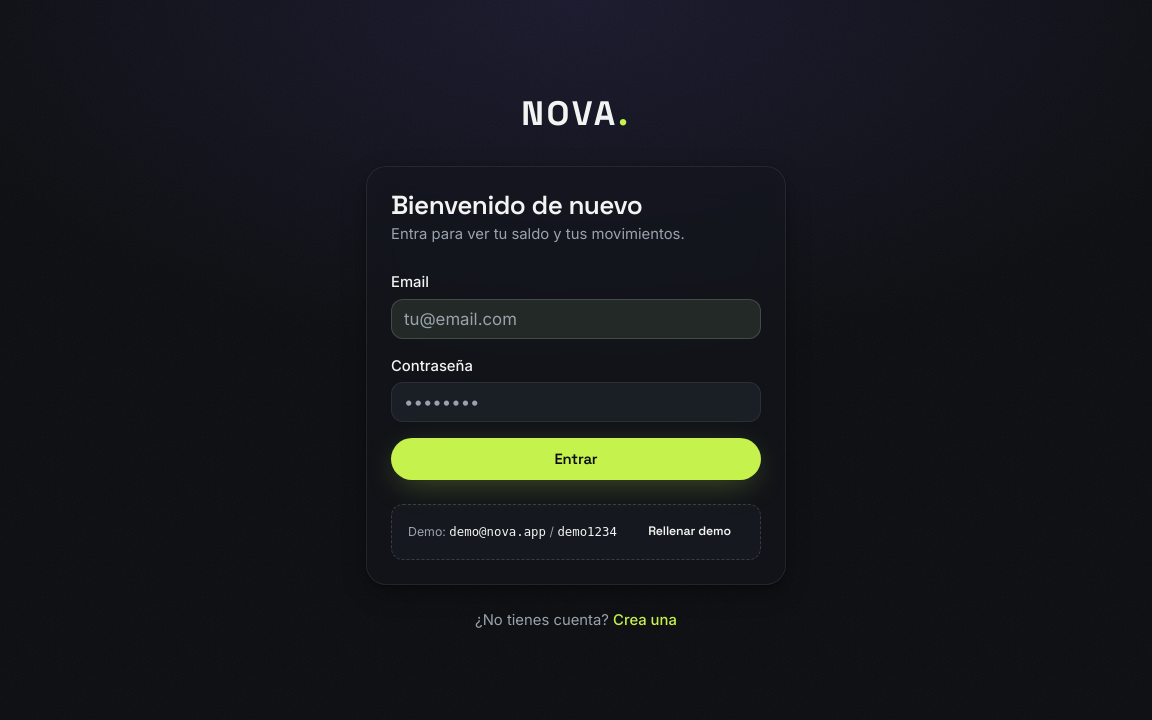
Test: LoginPage › muestra el error del servidor cuando las credenciales son incorrectas
Type "nadie@nova.app" into the field labelled "Email" at coordinates (576, 319), box [404, 300, 748, 338]
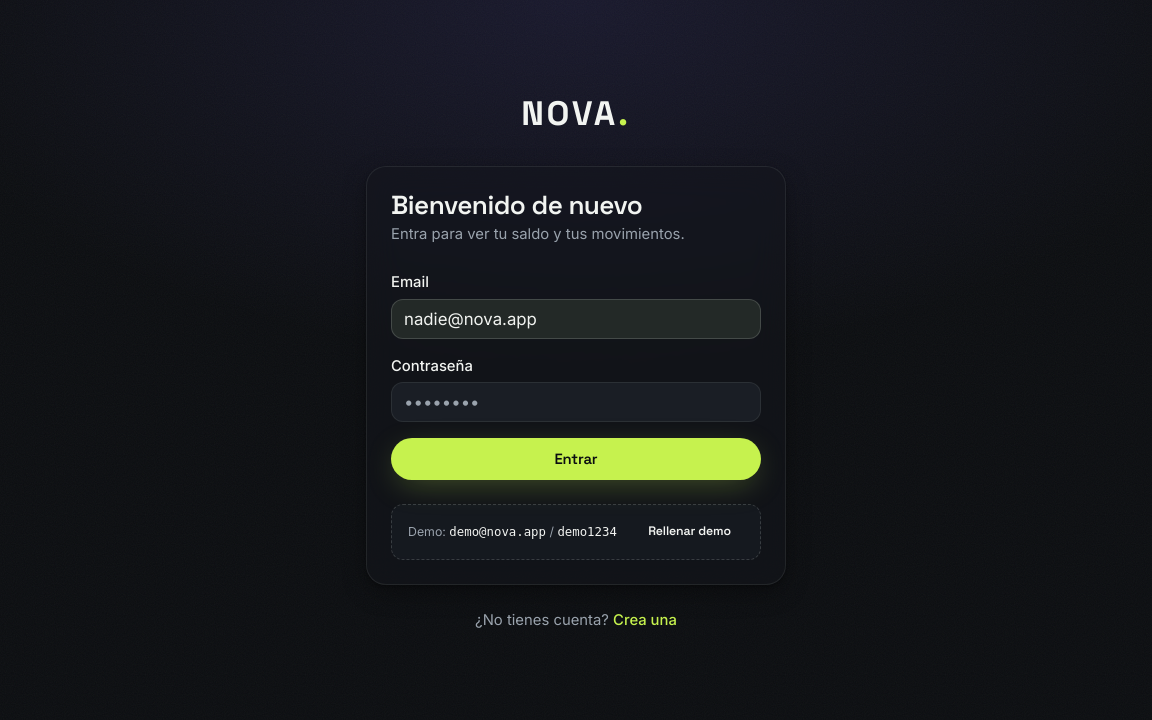
Type "clave123" into the password field labelled "Contraseña" at coordinates (576, 402), box [404, 384, 748, 422]
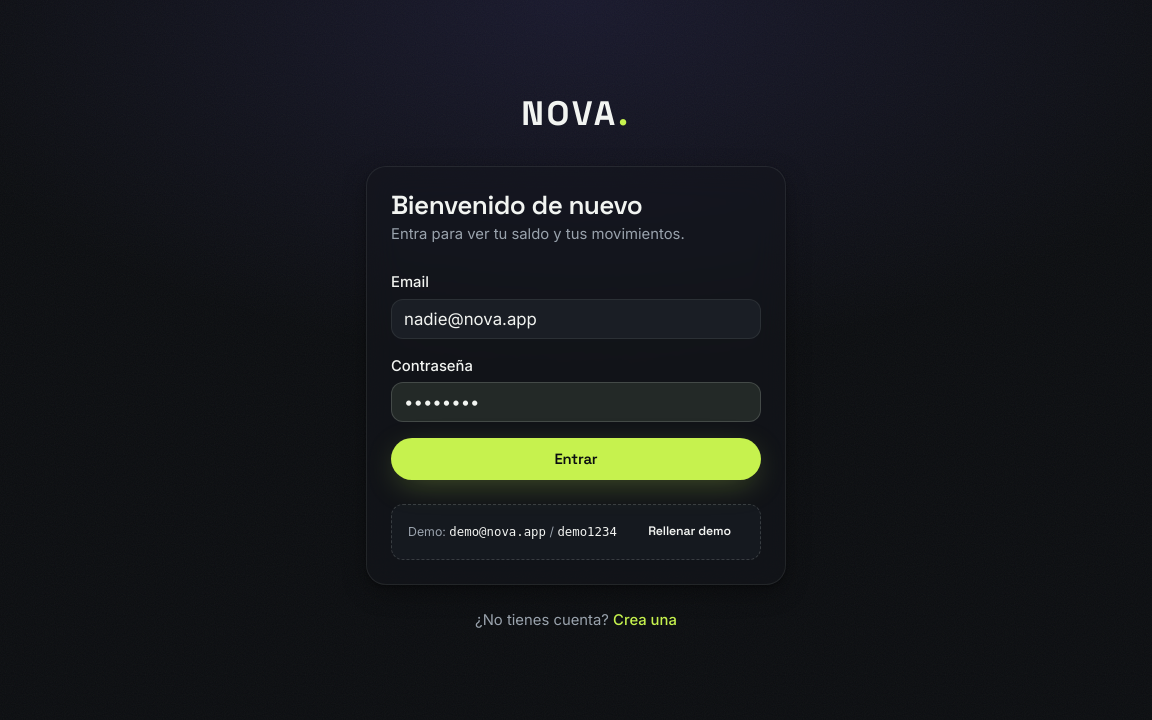
Click the button "Entrar" at coordinates (576, 459), box [391, 438, 761, 480]
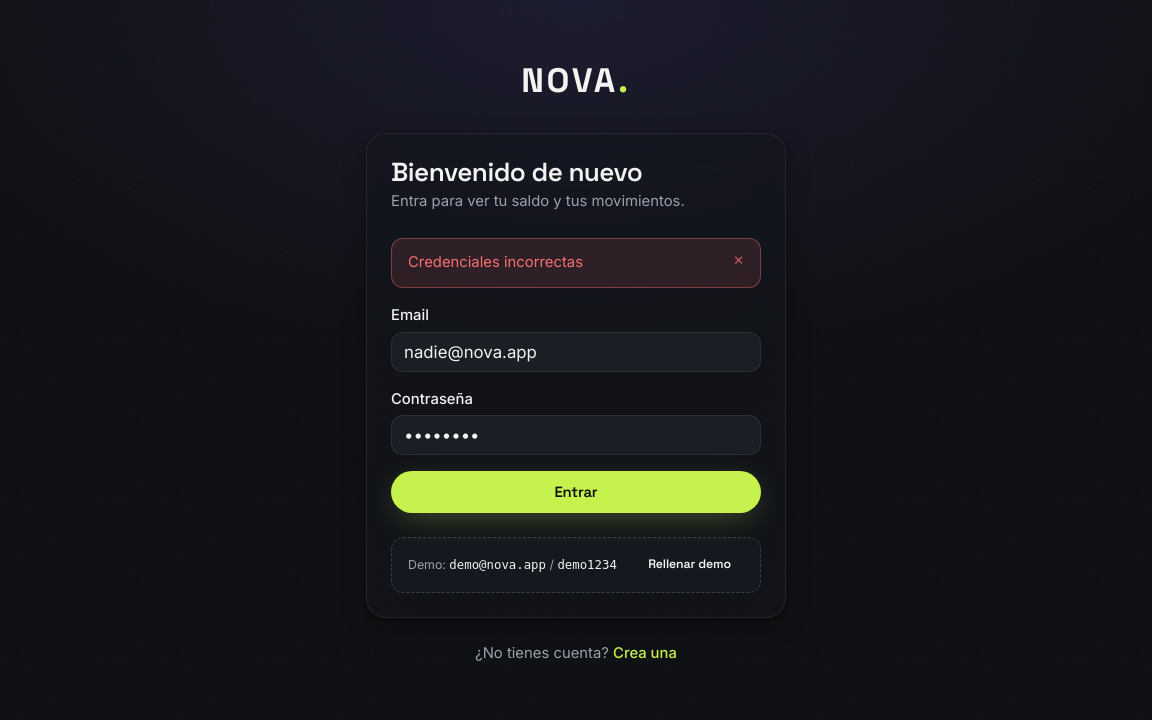
Expected: the message shows "Credenciales incorrectas", [408, 253, 583, 271]
